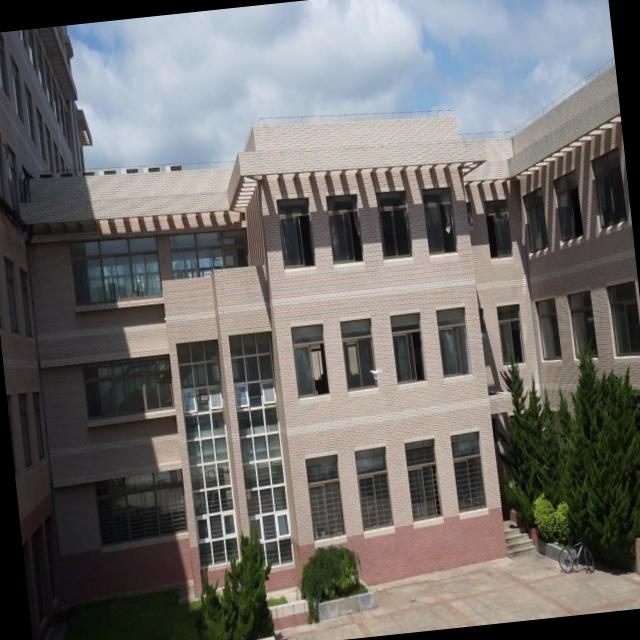drone: (366, 362, 386, 384)
